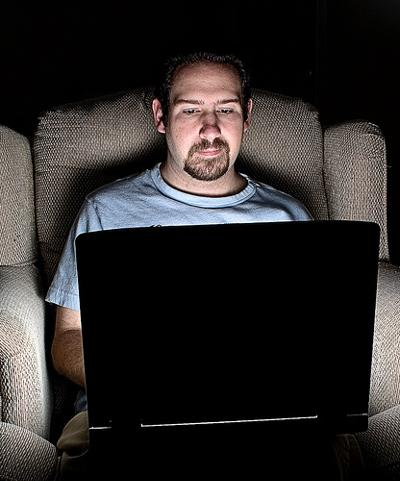person: (46, 47, 367, 479)
